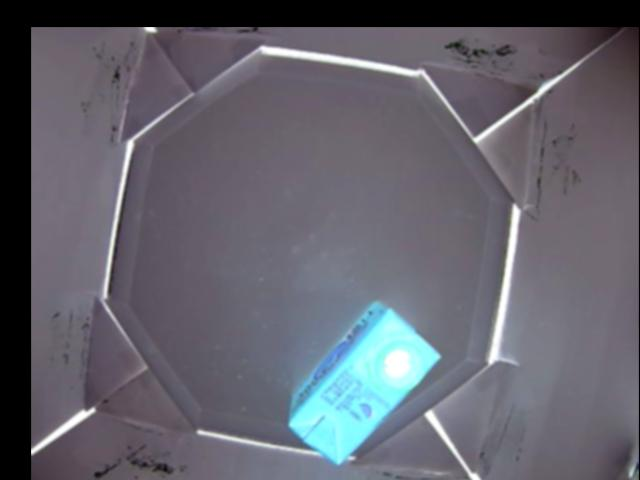Bottle: (287, 299, 440, 465)
